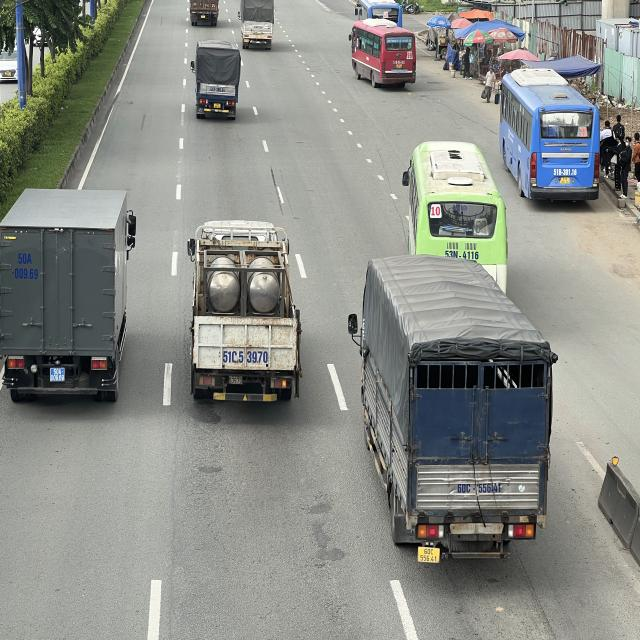coach: (402, 143, 508, 303), (494, 73, 602, 199), (348, 26, 418, 88)
truck: (349, 253, 554, 553), (2, 182, 135, 394), (187, 219, 301, 405), (190, 42, 241, 120), (239, 0, 274, 45)
